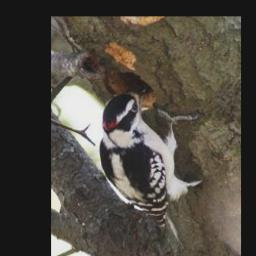Woodpecker: (99, 86, 203, 237)
